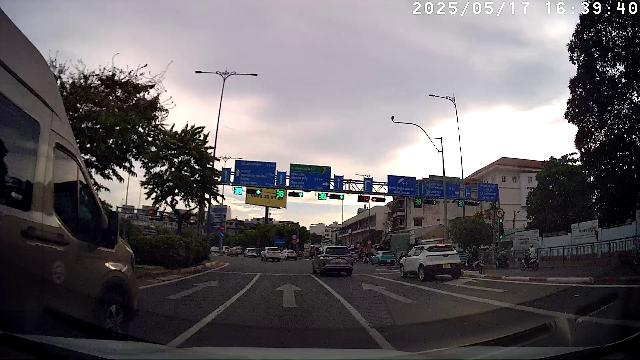124a-cam-quay-dau-xe: (496, 208, 504, 218)
